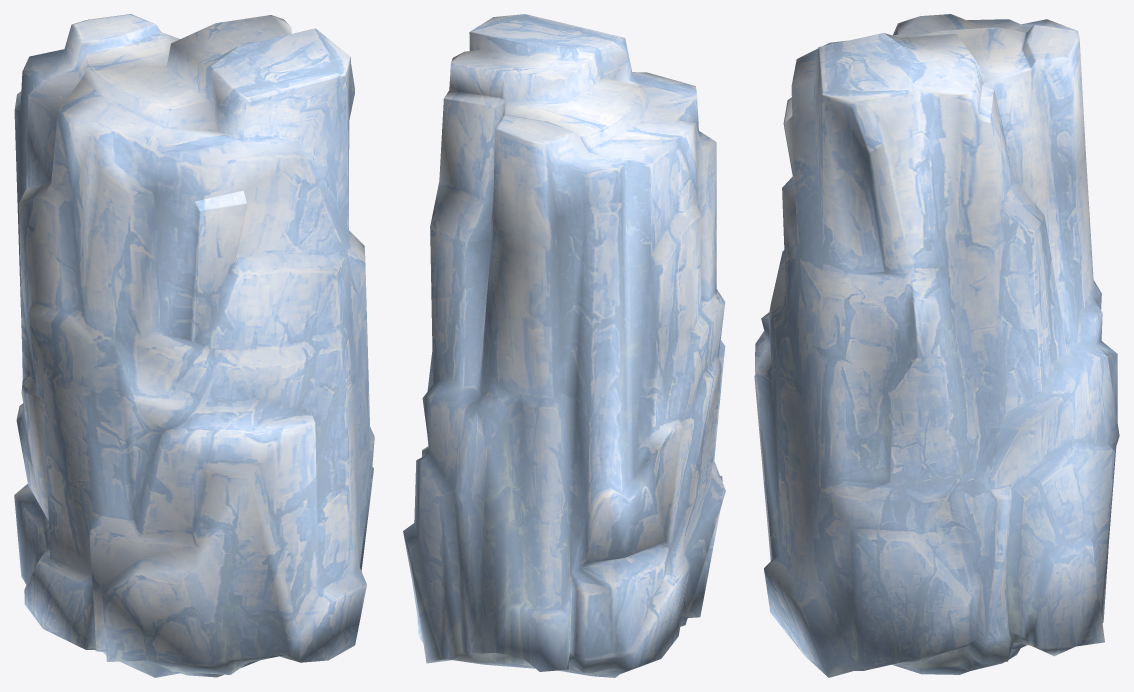
The model's file is bel_env_spire_05.glb.
3 renders of one model, left to right at view 1: azimuth 30°, elevation 25°; view 2: azimuth 150°, elevation 25°; view 3: azimuth 270°, elevation 25°, orthographic. The views are drawn at different scales.
Visible parts, largest first — view 1: bel_env_spire_05; view 2: bel_env_spire_05; view 3: bel_env_spire_05.
Boxes of the visible parts, x1,y1,x2,y2 form: bel_env_spire_05: (14, 14, 374, 677); bel_env_spire_05: (403, 14, 725, 677); bel_env_spire_05: (754, 14, 1119, 677).
Bounding box in the file's own units: 2.44 × 4.69 × 2.54.
3 materials, 3 textured.
